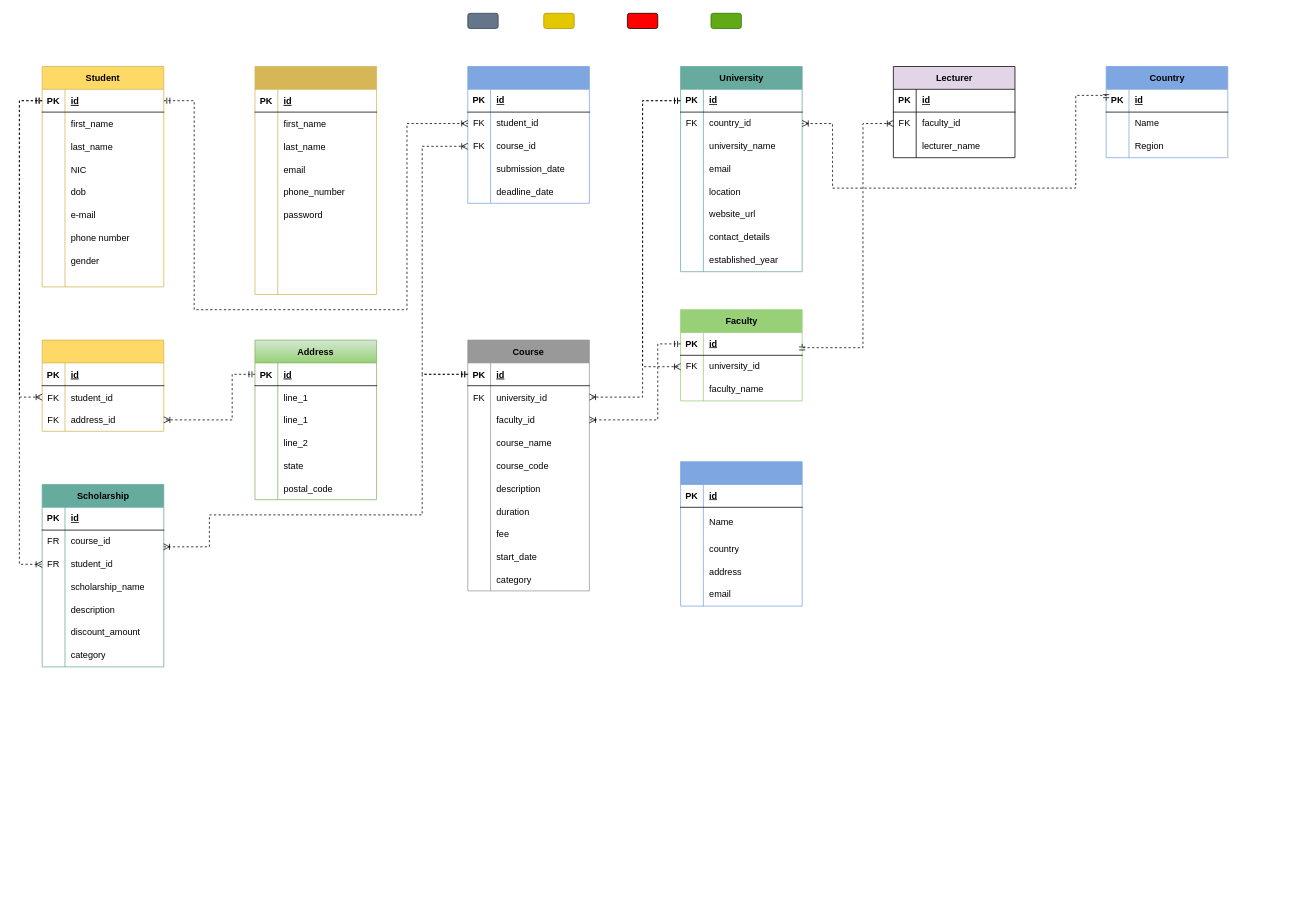
The diagram is 1300 pixels wide and 918 high, and some of its shapes have lost their labels. Here are the shapes that lost their labels. From the top down, the box of each, then its label:
(467, 66, 589, 203): Application
(254, 66, 377, 294): Admin
(41, 339, 164, 431): Student_address
(680, 461, 802, 606): Branch
